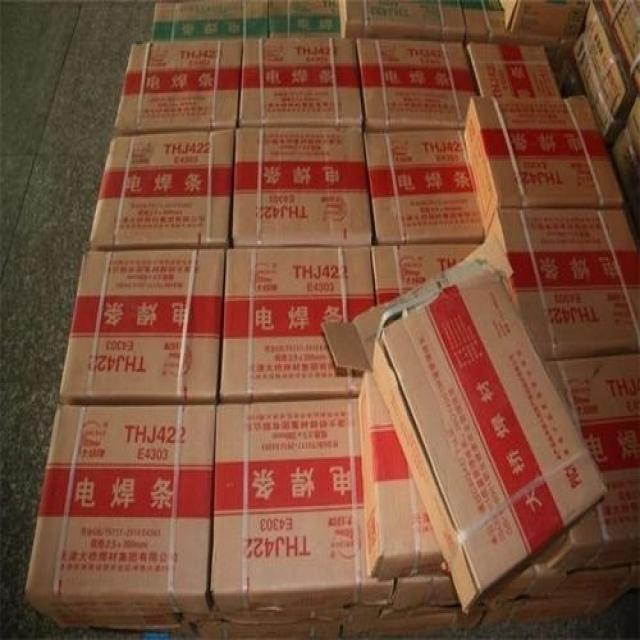box: (320, 232, 607, 613), (24, 405, 216, 632), (211, 397, 393, 623), (59, 249, 225, 405), (220, 244, 375, 402), (485, 208, 640, 359), (462, 95, 625, 235), (545, 352, 640, 569), (358, 374, 451, 580), (90, 129, 234, 251), (232, 126, 374, 246), (365, 129, 485, 244), (114, 38, 242, 136), (236, 36, 364, 126), (356, 38, 477, 131), (572, 0, 636, 147), (371, 243, 483, 304), (461, 0, 562, 66), (466, 41, 562, 99), (338, 0, 467, 41), (151, 0, 269, 41), (481, 594, 614, 626), (596, 0, 640, 96), (484, 558, 568, 607), (613, 95, 640, 243), (343, 613, 485, 640), (381, 577, 465, 618), (552, 564, 640, 602), (502, 2, 590, 39), (552, 538, 640, 572), (195, 620, 340, 640), (269, 0, 342, 39)
